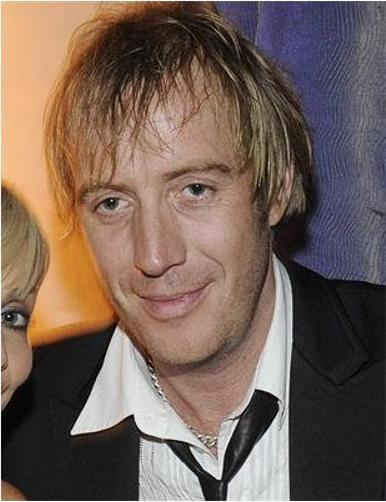Drunk: (69, 75, 266, 362)
